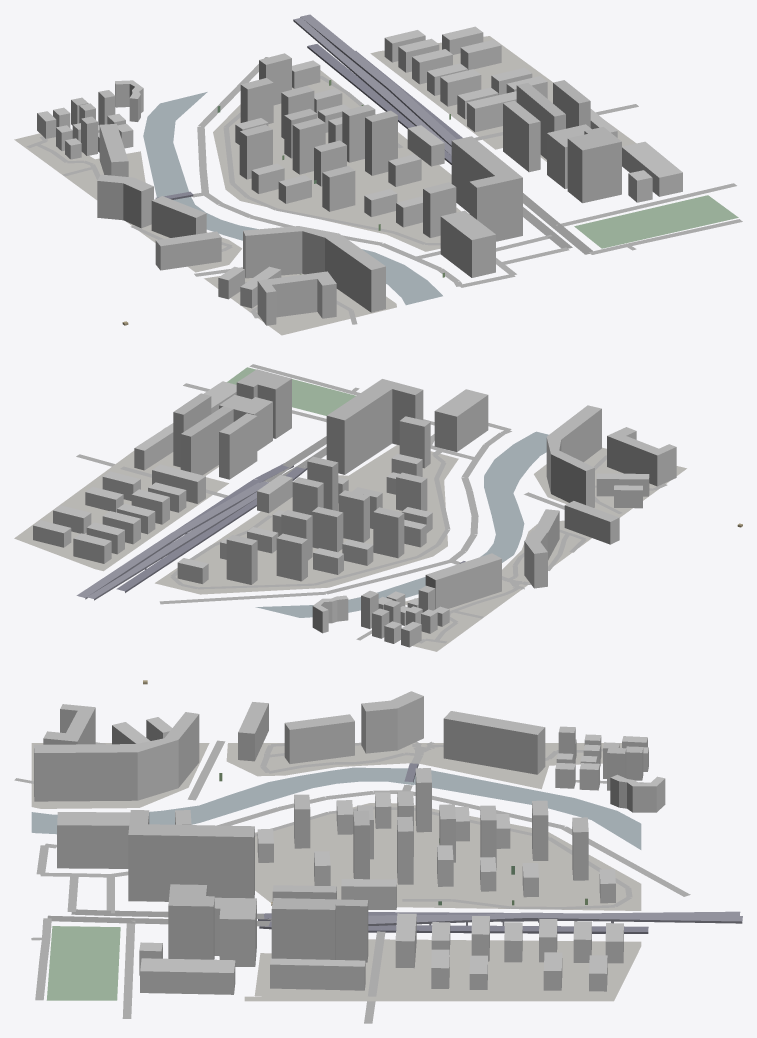
3 renders of one model, top to bottom at view 1: azimuth 30°, elevation 25°; view 2: azimuth 150°, elevation 25°; view 3: azimuth 270°, elevation 25°, orthographic. The views are drawn at different scales.
Bounding box in the file's own units: 660 × 61.96 × 598.
